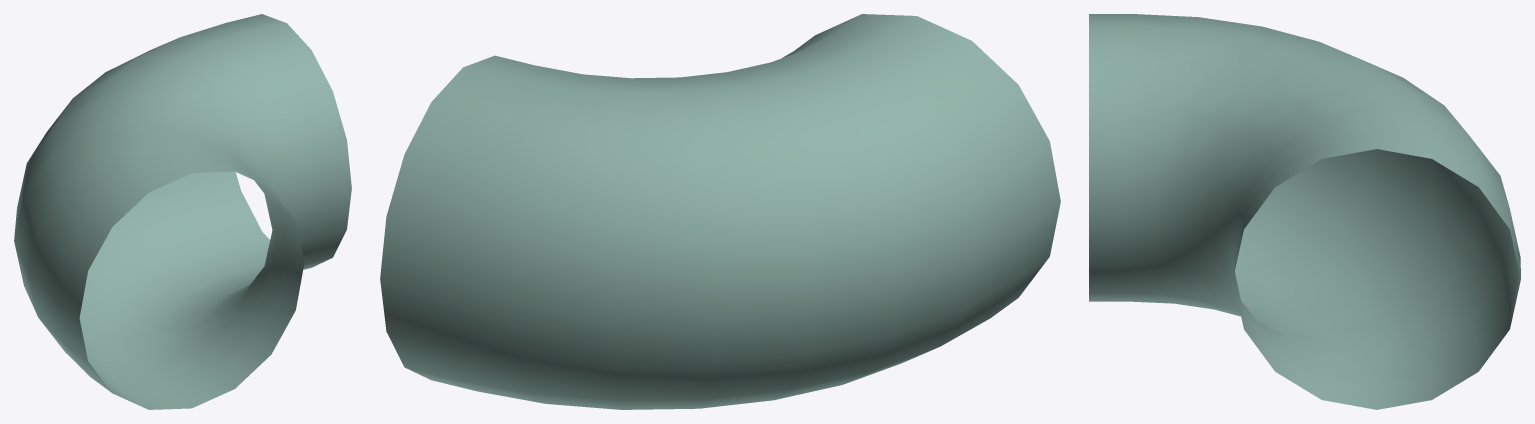
Rendered from PipeLarge_Bent_01.fbx.
The picture shows the model from 3 angles, left to right: view 1: azimuth 30°, elevation 25°; view 2: azimuth 150°, elevation 25°; view 3: azimuth 270°, elevation 25°; orthographic projection. The views are drawn at different scales.
Visible parts, largest first — view 1: PipeLarge_Bent_01.001; view 2: PipeLarge_Bent_01.001; view 3: PipeLarge_Bent_01.001.
Part boxes in pixels (x1,y1,x2,y2): PipeLarge_Bent_01.001: (14,14,351,409); PipeLarge_Bent_01.001: (380,14,1060,409); PipeLarge_Bent_01.001: (1089,14,1520,409).
Bounding box in the file's own units: 0.3 × 0.2 × 0.3.
